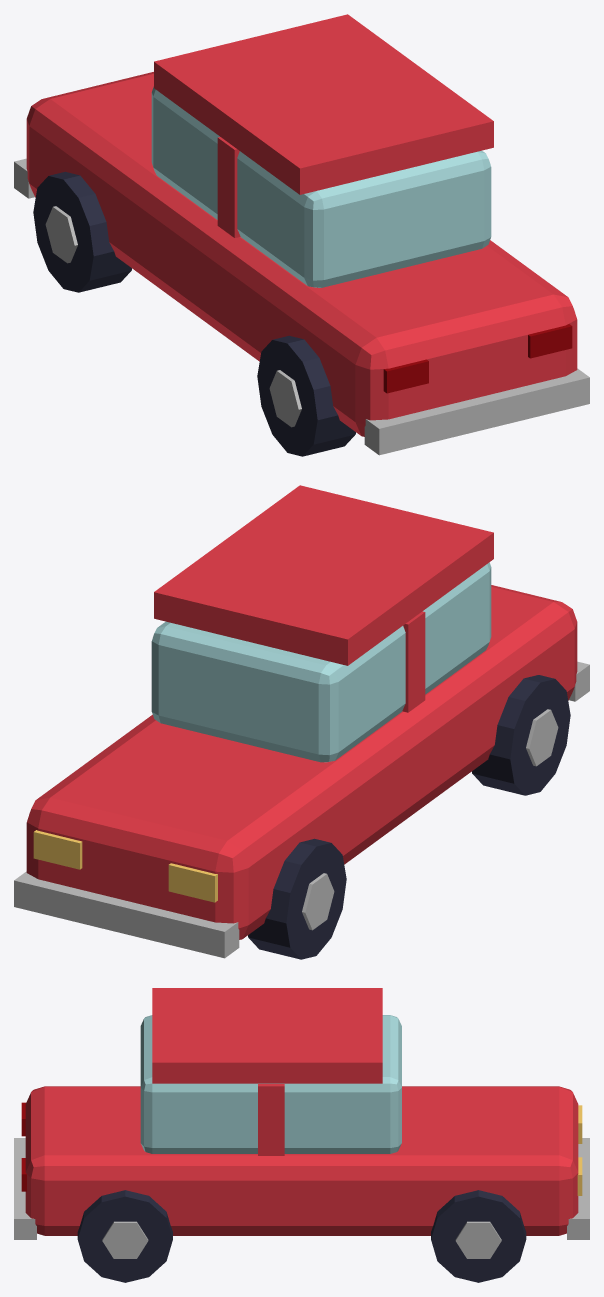
The model's file is minicar.glb.
The picture shows the model from 3 angles, top to bottom: view 1: azimuth 30°, elevation 25°; view 2: azimuth 150°, elevation 25°; view 3: azimuth 270°, elevation 25°; orthographic projection. The views are drawn at different scales.
Visible parts, largest first — view 1: Cube, Cube.002, Cube.001, Cube.008, Cylinder.002, Cylinder, Cube.003, Cylinder.001, Cylinder.003, Cube.005, Cube.007; view 2: Cube, Cube.002, Cube.001, Cube.009, Cylinder.002, Cylinder, Cube.003, Cube.006, Cube.004, Cylinder.001, Cylinder.003; view 3: Cube, Cube.002, Cube.001, Cylinder.004, Cylinder.006, Cube.003, Cylinder.005, Cylinder.007, Cube.008, Cube.009.
Boxes of the visible parts, bbox=[...] form: Cube: bbox=[26, 72, 577, 436]; Cube.002: bbox=[154, 14, 493, 194]; Cube.001: bbox=[151, 86, 491, 287]; Cube.008: bbox=[364, 368, 589, 455]; Cylinder.002: bbox=[33, 171, 131, 292]; Cylinder: bbox=[257, 335, 355, 456]; Cube.003: bbox=[217, 137, 240, 237]; Cylinder.001: bbox=[269, 370, 301, 427]; Cylinder.003: bbox=[45, 206, 77, 263]; Cube.005: bbox=[383, 359, 428, 393]; Cube.007: bbox=[528, 324, 572, 358]; Cube: bbox=[26, 585, 577, 939]; Cube.002: bbox=[154, 485, 493, 665]; Cube.001: bbox=[151, 562, 491, 762]; Cube.009: bbox=[14, 871, 239, 958]; Cylinder.002: bbox=[248, 838, 346, 959]; Cylinder: bbox=[472, 675, 570, 795]; Cube.003: bbox=[402, 611, 425, 712]; Cube.006: bbox=[33, 830, 82, 869]; Cube.004: bbox=[168, 863, 217, 902]; Cylinder.001: bbox=[526, 709, 558, 766]; Cylinder.003: bbox=[302, 873, 334, 930]; Cube: bbox=[25, 1086, 578, 1235]; Cube.002: bbox=[152, 988, 382, 1083]; Cube.001: bbox=[140, 1015, 401, 1153]; Cylinder.004: bbox=[77, 1190, 172, 1282]; Cylinder.006: bbox=[431, 1190, 526, 1282]; Cube.003: bbox=[258, 1084, 284, 1155]; Cylinder.005: bbox=[102, 1221, 148, 1258]; Cylinder.007: bbox=[455, 1221, 501, 1258]; Cube.008: bbox=[14, 1138, 36, 1239]; Cube.009: bbox=[567, 1138, 589, 1239].
Bounding box in the file's own units: 3.08 × 3 × 7.5.
